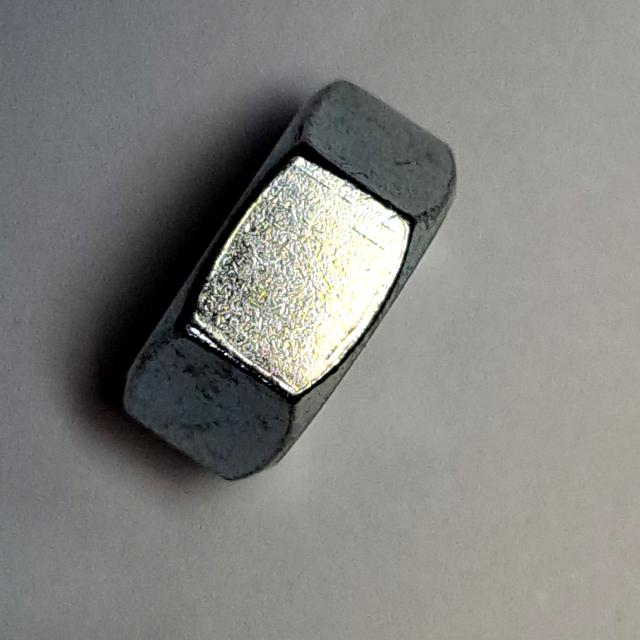Side_Excellent: (116, 64, 482, 498)
